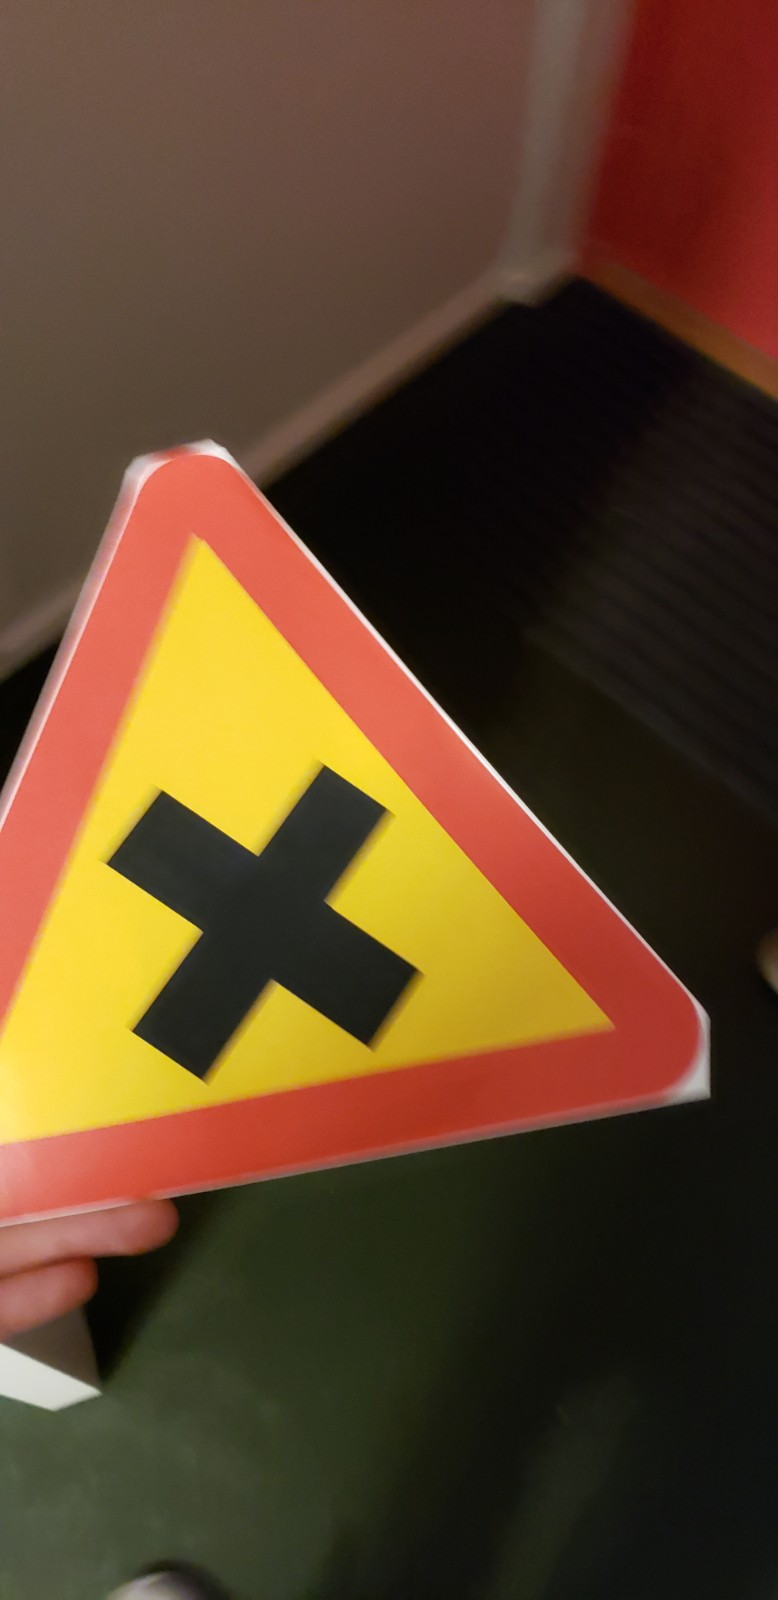junction: (1, 371, 726, 1196)
